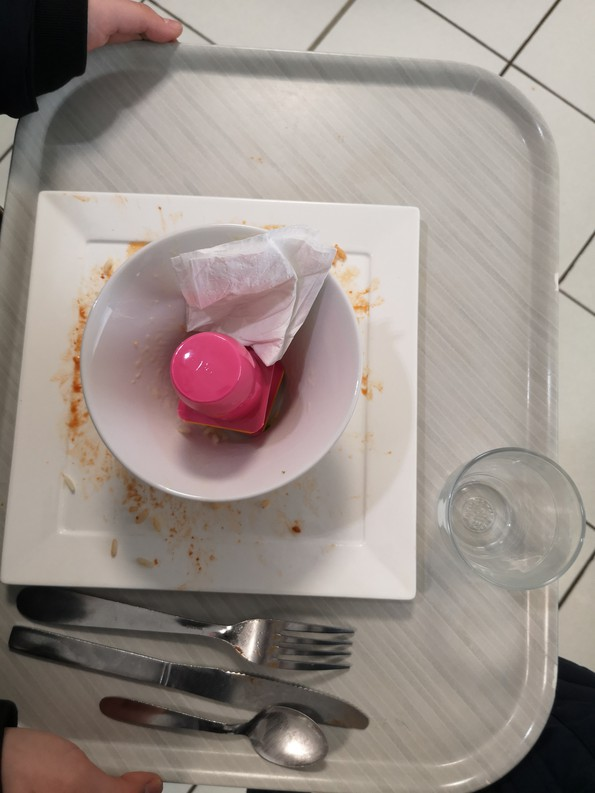cup: (430, 435, 595, 588)
cutlery: (5, 594, 370, 786)
trash: (165, 238, 357, 439)
